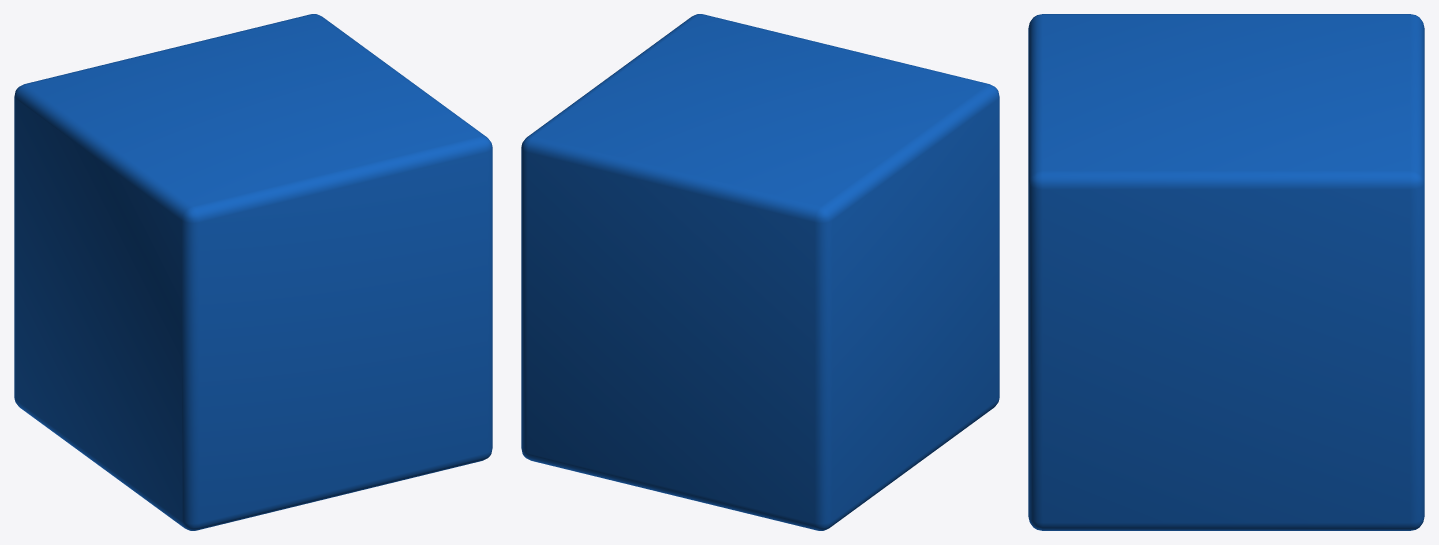
Rendered from blue_square.glb.
3 renders of one model, left to right at view 1: azimuth 30°, elevation 25°; view 2: azimuth 150°, elevation 25°; view 3: azimuth 270°, elevation 25°, orthographic. The views are drawn at different scales.
Parts seen in each view (by area): view 1: blue square; view 2: blue square; view 3: blue square.
Boxes of the visible parts, x1=… form: blue square: x1=14, y1=14, x2=492, y2=530; blue square: x1=521, y1=14, x2=999, y2=530; blue square: x1=1028, y1=14, x2=1424, y2=530.
Size of the model in its own units: 1.92 by 1.92 by 1.92.
Materials: 1 (1 with a texture image).
